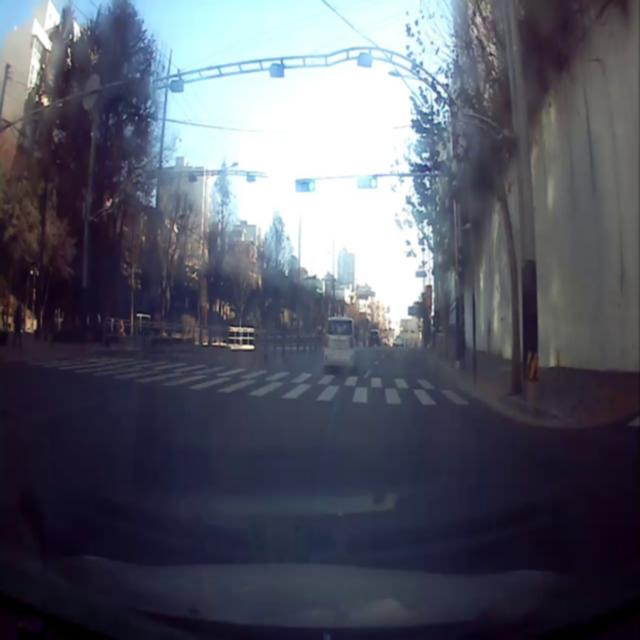Green Light: (307, 178, 315, 192), (370, 177, 377, 190)
